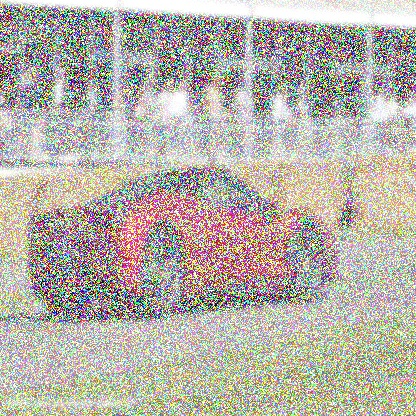Vehicle: (26, 165, 343, 323)
